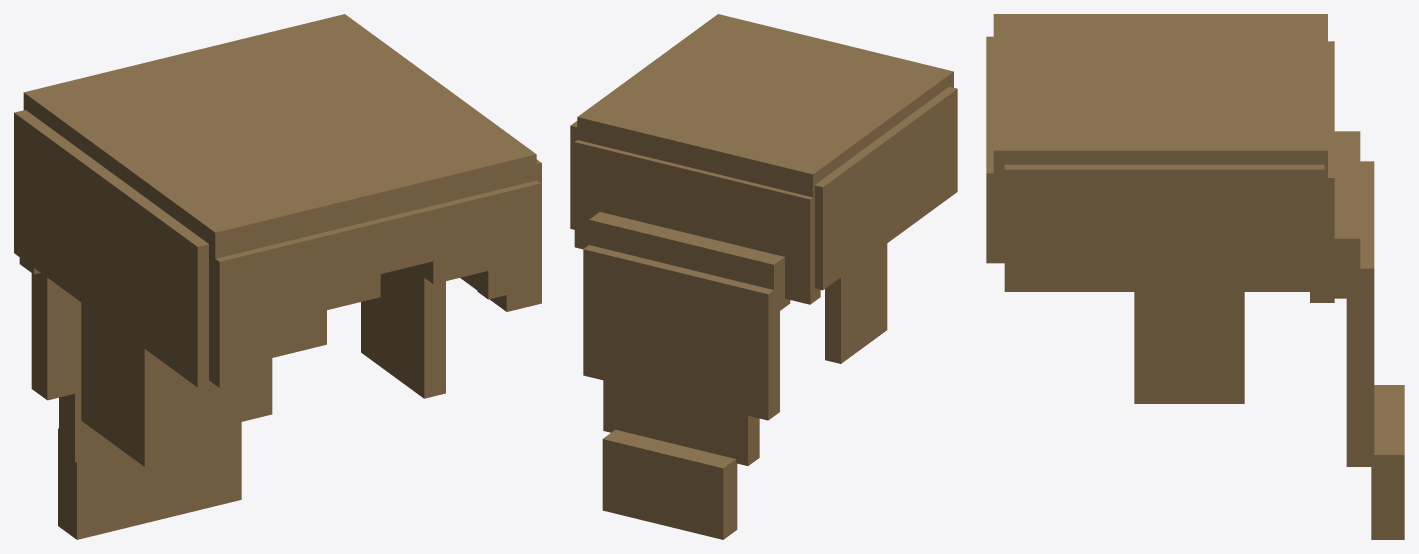
Rendered from hair_long.glb.
3 renders of one model, left to right at view 1: azimuth 30°, elevation 25°; view 2: azimuth 150°, elevation 25°; view 3: azimuth 270°, elevation 25°, orthographic. The views are drawn at different scales.
Parts seen in each view (by area): view 1: char_hair_visual; view 2: char_hair_visual; view 3: char_hair_visual.
Boxes of the visible parts, x1,y1,x2,y2 form: char_hair_visual: [14, 14, 541, 539]; char_hair_visual: [570, 14, 957, 539]; char_hair_visual: [986, 14, 1404, 539].
Size of the model in its own units: 0.628 by 0.8455 by 0.758.
